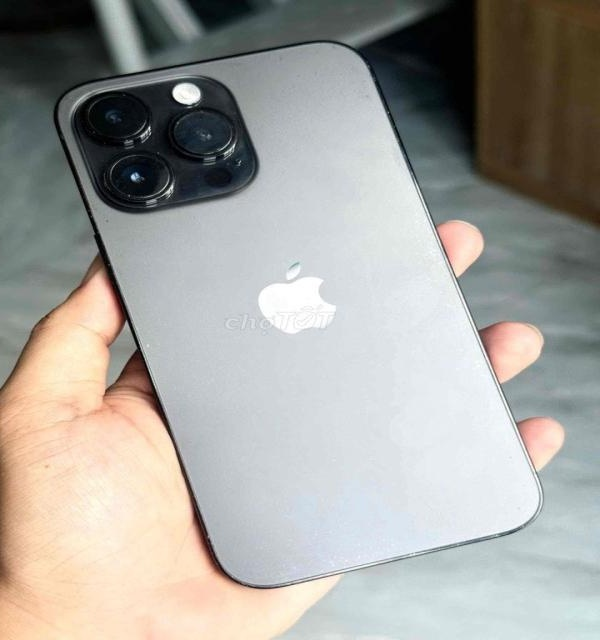scratch: (256, 45, 379, 111)
